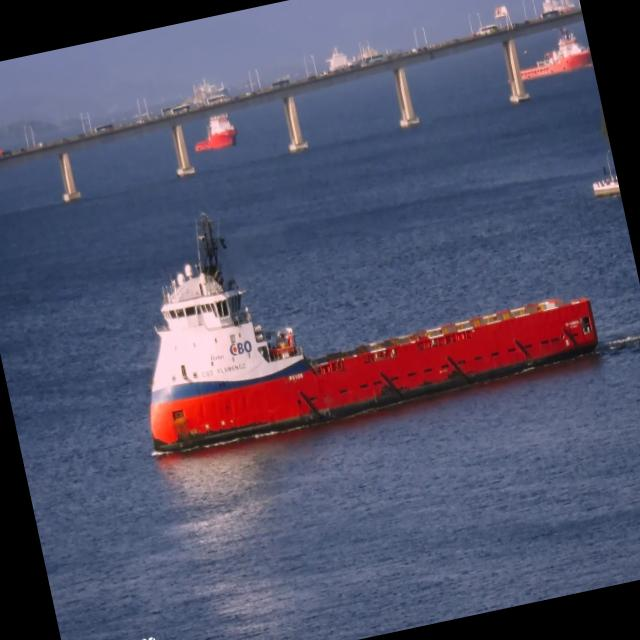Offshore: (149, 213, 597, 454), (521, 28, 592, 80), (195, 114, 236, 151)
